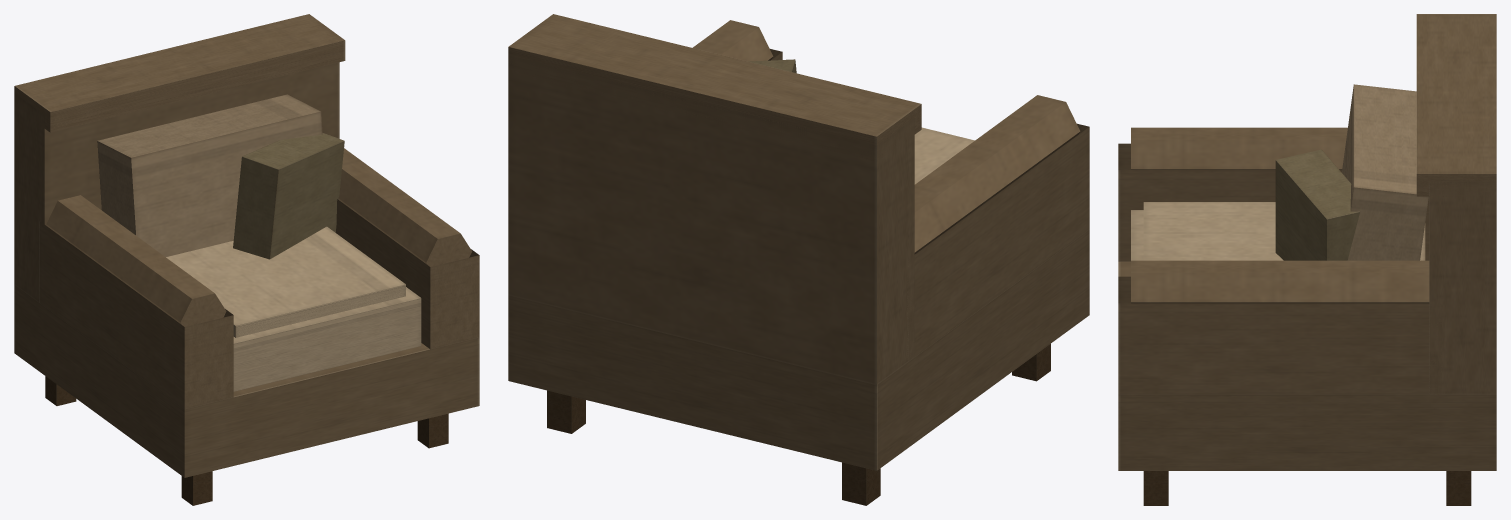
File: armchair.glb
3 renders of one model, left to right at view 1: azimuth 30°, elevation 25°; view 2: azimuth 150°, elevation 25°; view 3: azimuth 270°, elevation 25°, orthographic. The views are drawn at different scales.
Visible parts, largest first — view 1: core_armchair; view 2: core_armchair; view 3: core_armchair.
Part boxes in pixels (<box>): core_armchair: <box>14,14,479,505</box>; core_armchair: <box>508,14,1089,505</box>; core_armchair: <box>1118,14,1496,505</box>.
Size of the model in its own units: 0.9 by 0.9 by 0.9.
1 material, 1 textured.
